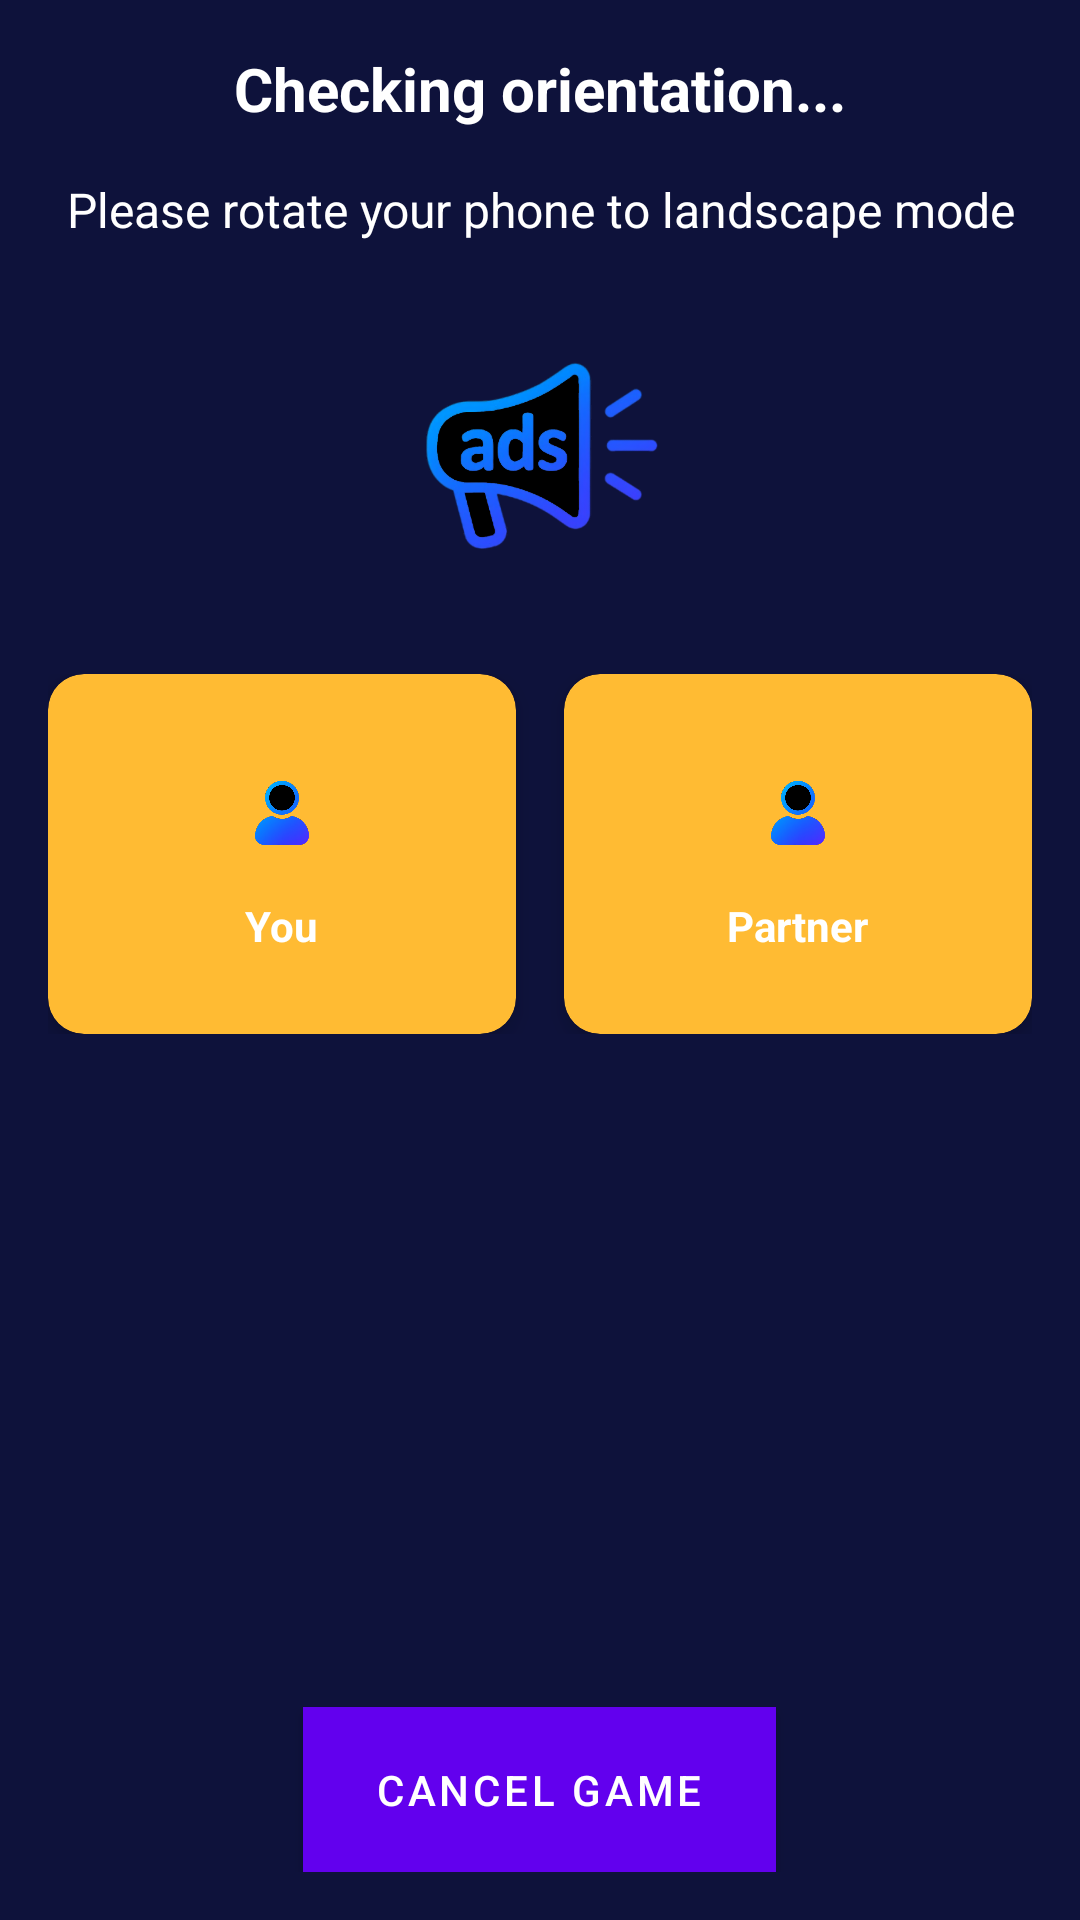

Icon bounding boxes for this 1080×1920 phone screenshot, format [left=x1, top=y1, right=x2, bottom=y2]:
My status icon: [left=255, top=781, right=309, bottom=845]
